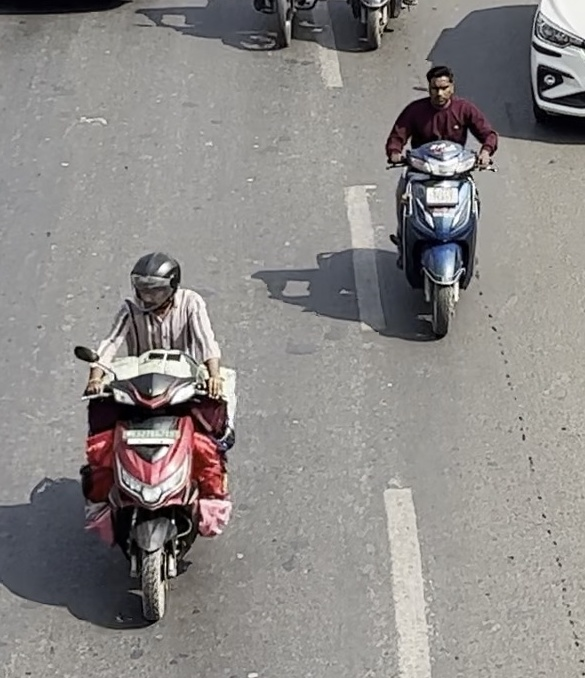BikeWithRider: (66, 244, 251, 627), (375, 61, 506, 341)
Helmet: (123, 243, 190, 318)
NoHelmet: (419, 61, 462, 113)
